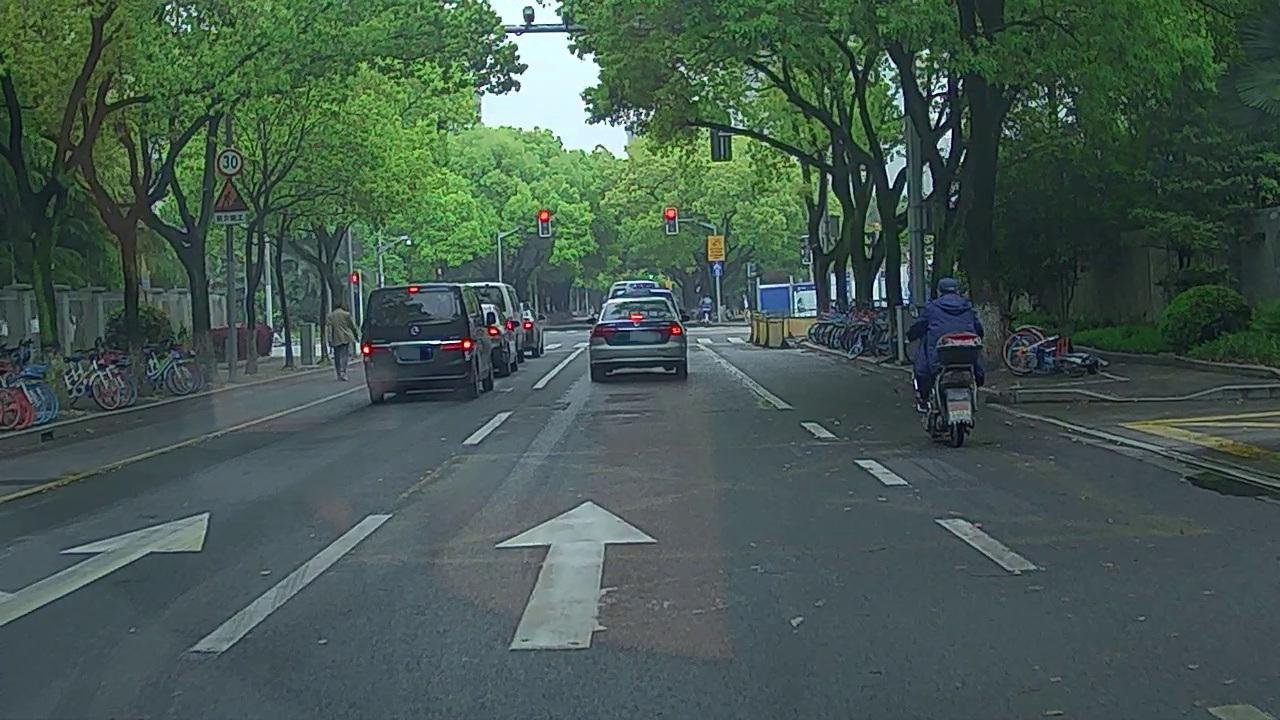traffic_light: (538, 210, 551, 236), (666, 207, 678, 235)
